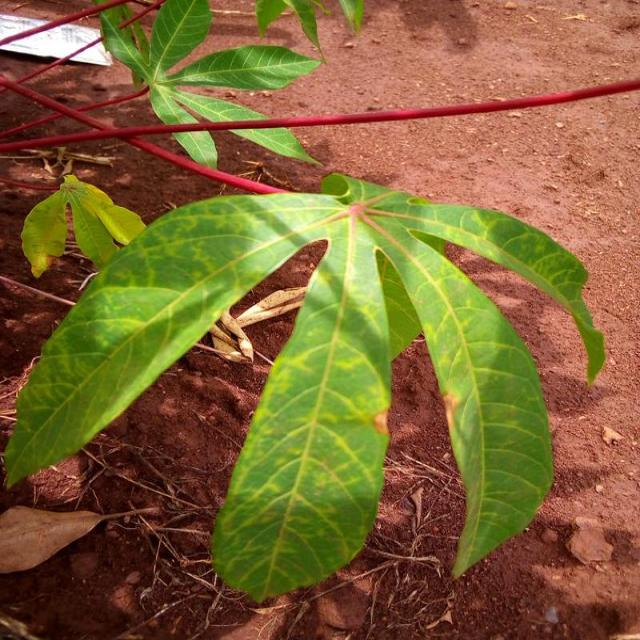cassava leaf: (4, 170, 605, 602)
